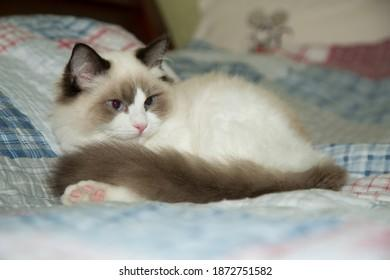ragdoll: (53, 27, 187, 165)
